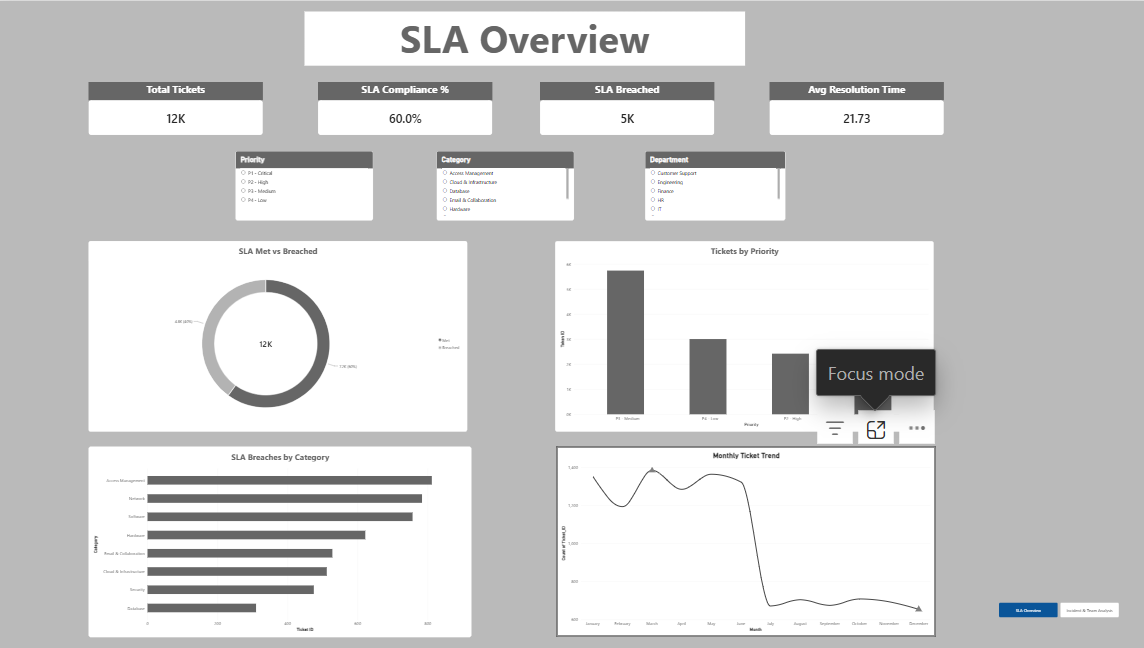

This screenshot's page, from the dashboard's own definition file:
{"tool":"powerbi","page":{"name":"SLA Overview","canvas":[3840,2160],"ordinal":0},"visuals":[{"type":"textbox","box":[1024.7,34.2,1468.8,180.5],"z":0},{"type":"cardVisual","title":"Total Tickets","fields":{"Data":["ServiceDesk.Total Tickets"]},"box":[304.4,268,581.5,177.2],"z":1000},{"type":"cardVisual","title":"SLA Compliance %","fields":{"Data":["ServiceDesk.SLA Compliance %"]},"box":[1067.5,268,581.5,177.2],"z":2000},{"type":"cardVisual","title":"SLA Breached","fields":{"Data":["ServiceDesk.SLA Breached"]},"box":[1808,268,581.5,177.2],"z":3000},{"type":"cardVisual","title":"Avg Resolution Time","fields":{"Data":["ServiceDesk.Avg Resolution Time"]},"box":[2575.7,268,581.5,177.2],"z":4000},{"type":"listSlicer","fields":{"Values":["ServiceDesk.Category"]},"box":[1462.7,499.7,458.8,231.7],"z":5000},{"type":"listSlicer","fields":{"Values":["ServiceDesk.Priority"]},"box":[795,499.7,458.8,231.7],"z":5001},{"type":"listSlicer","fields":{"Values":["ServiceDesk.Department"]},"box":[2157.7,499.7,467.9,231.7],"z":5002},{"type":"donutChart","title":"SLA Met vs Breached","fields":{"Category":["ServiceDesk.SLA_Status"],"Y":["CountNonNull(ServiceDesk.Ticket_ID)"]},"box":[304.4,799.5,1262.8,636],"z":5003},{"type":"clusteredColumnChart","title":"Tickets by Priority","fields":{"Category":["ServiceDesk.Priority"],"Y":["CountNonNull(ServiceDesk.Ticket_ID)"]},"box":[1862.5,799.5,1262.8,636],"z":5004},{"type":"clusteredBarChart","title":"SLA Breaches by Category","fields":{"Category":["ServiceDesk.Category"],"Y":["CountNonNull(ServiceDesk.Ticket_ID)"]},"box":[304.4,1485.4,1276.5,636],"z":5005},{"type":"lineChart","title":"Monthly Ticket Trend","fields":{"Category":["ServiceDesk.Created_Month.Variation.Date Hierarchy.Month"],"Y":["CountNonNull(ServiceDesk.Ticket_ID)"]},"box":[1865.2,1485.4,1264.3,635],"z":5006},{"type":"pageNavigator","box":[3340,2005,400,50],"z":5007}]}

Visuals, with their boxes in screenshot pixels (x1, y1, x2, y2), scaled from the page's 3840x2160 canvas onto the 1144x648 screenshot:
textbox: bbox(305, 10, 743, 64)
"Total Tickets" cardVisual: bbox(91, 80, 264, 134)
"SLA Compliance %" cardVisual: bbox(318, 80, 491, 134)
"SLA Breached" cardVisual: bbox(539, 80, 712, 134)
"Avg Resolution Time" cardVisual: bbox(767, 80, 941, 134)
listSlicer - ServiceDesk.Category: bbox(436, 150, 572, 219)
listSlicer - ServiceDesk.Priority: bbox(237, 150, 374, 219)
listSlicer - ServiceDesk.Department: bbox(643, 150, 782, 219)
"SLA Met vs Breached" donutChart: bbox(91, 240, 467, 431)
"Tickets by Priority" clusteredColumnChart: bbox(555, 240, 931, 431)
"SLA Breaches by Category" clusteredBarChart: bbox(91, 446, 471, 636)
"Monthly Ticket Trend" lineChart: bbox(556, 446, 932, 636)
pageNavigator: bbox(995, 602, 1114, 616)
